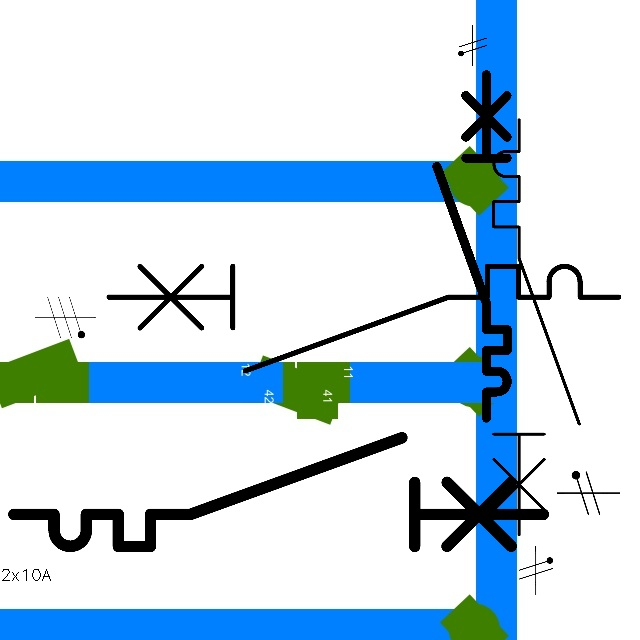interruptor_termomagnetico: (0, 424, 557, 560), (95, 253, 632, 384), (483, 109, 590, 545), (428, 65, 516, 426)
